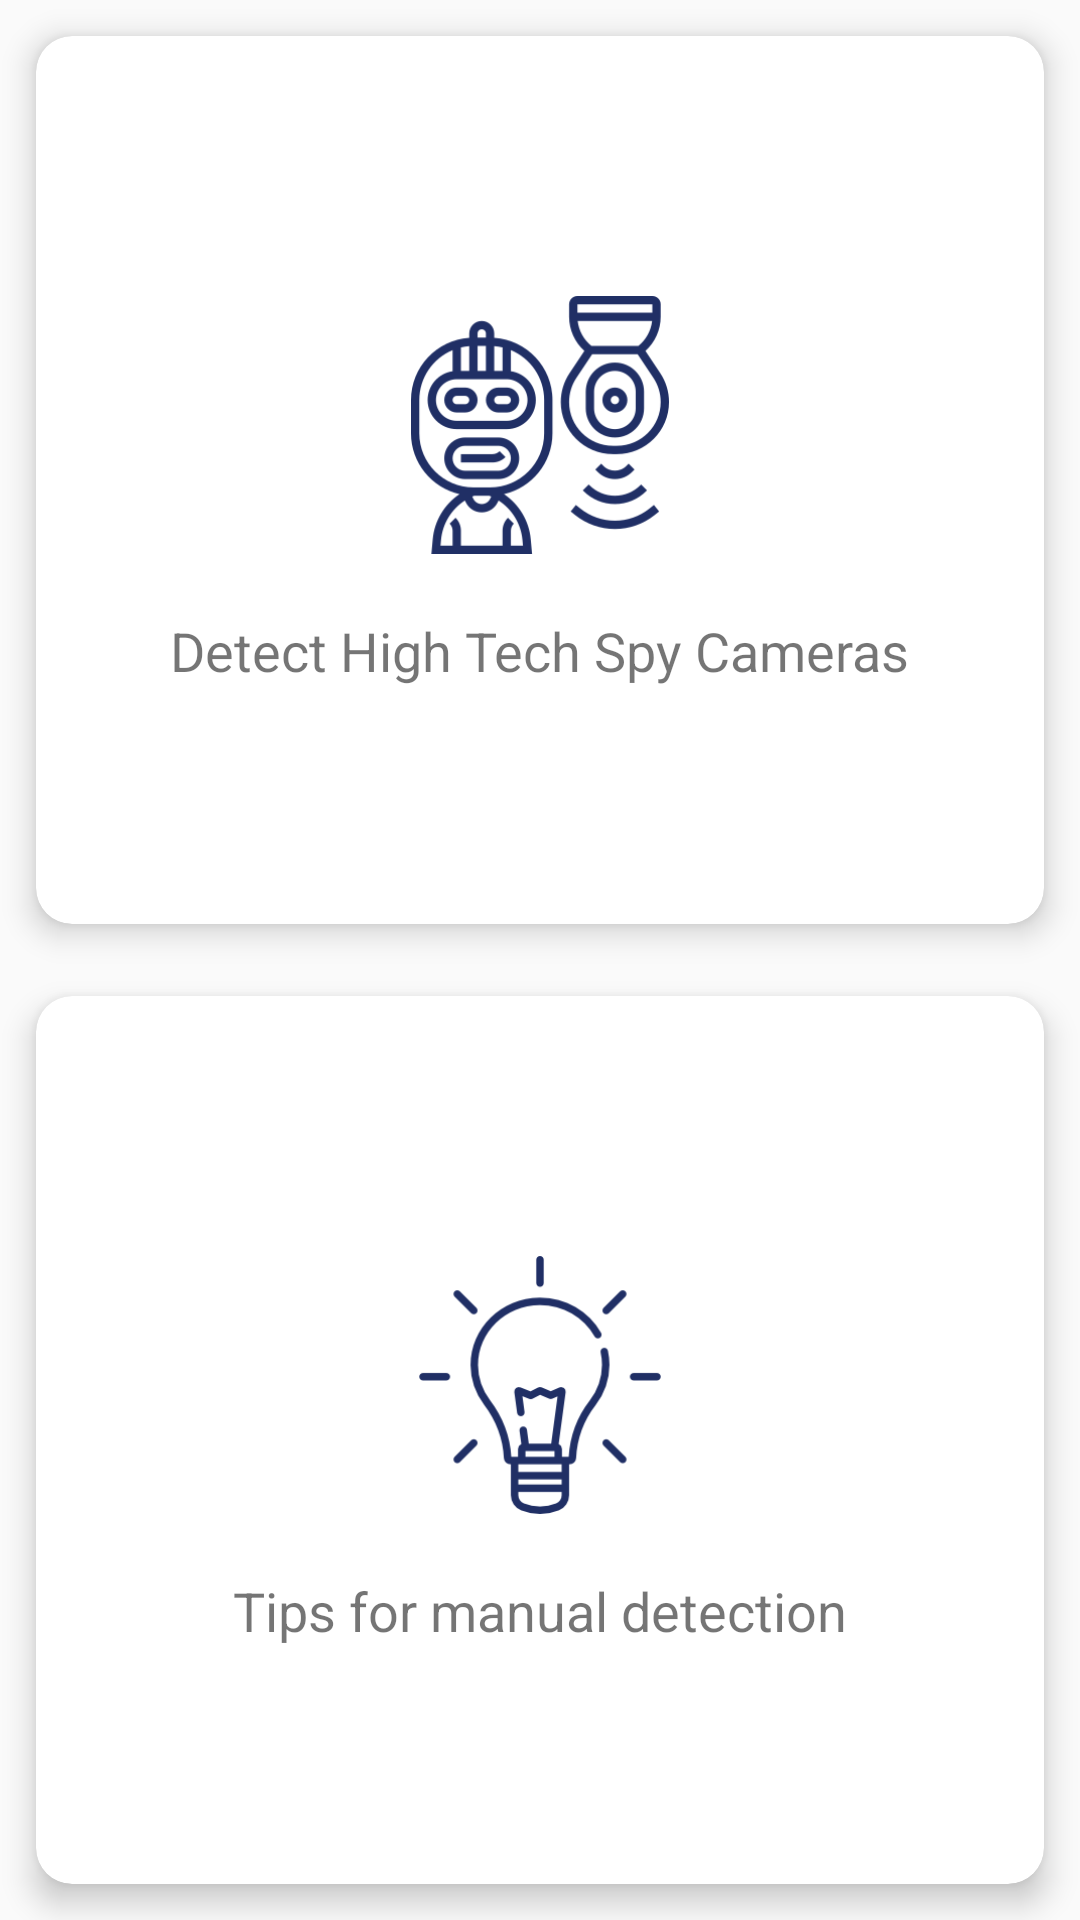

Icons on this 1080w x 1920h Android screen, each with its box as (x1, y1, x2, y2):
idea: (419, 1256, 661, 1514)
security camera: (411, 296, 669, 554)
